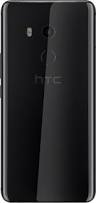htc: (1, 1, 96, 203)
